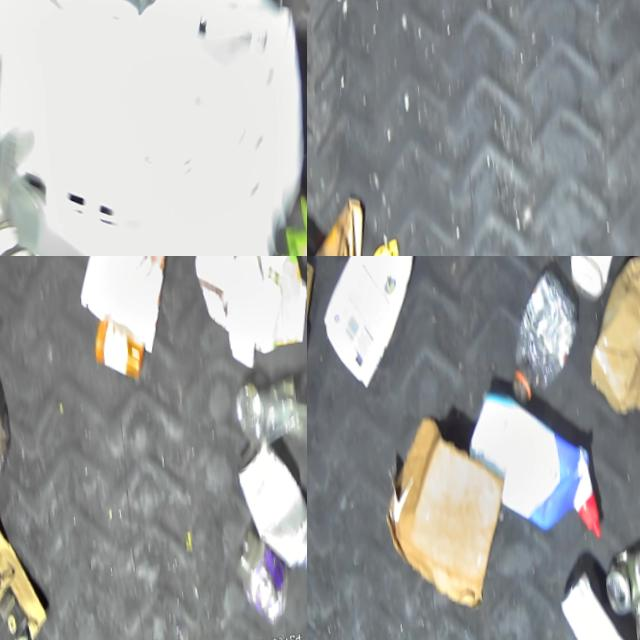can: (232, 433, 307, 591), (232, 528, 299, 636), (555, 564, 640, 640), (603, 550, 640, 621)
milk_jug: (309, 256, 434, 397)
non_white_jug: (461, 378, 609, 563)
plastic_bottle: (503, 267, 587, 412), (233, 375, 307, 454), (0, 279, 22, 514)
